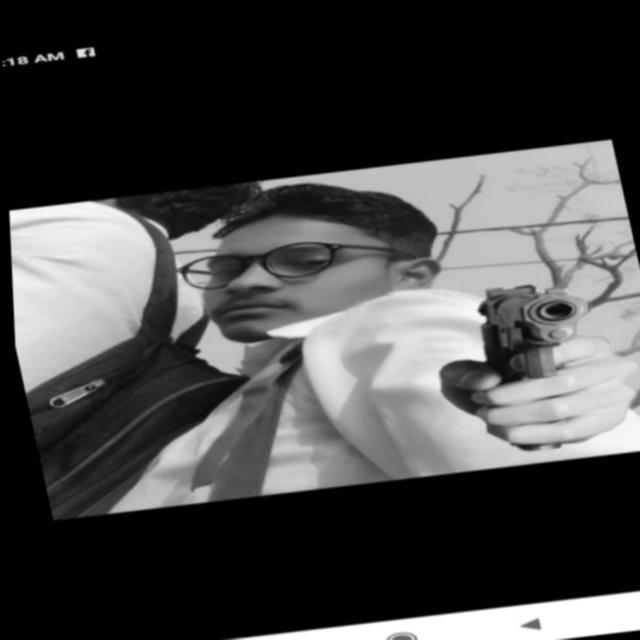weapon: (446, 259, 627, 462)
